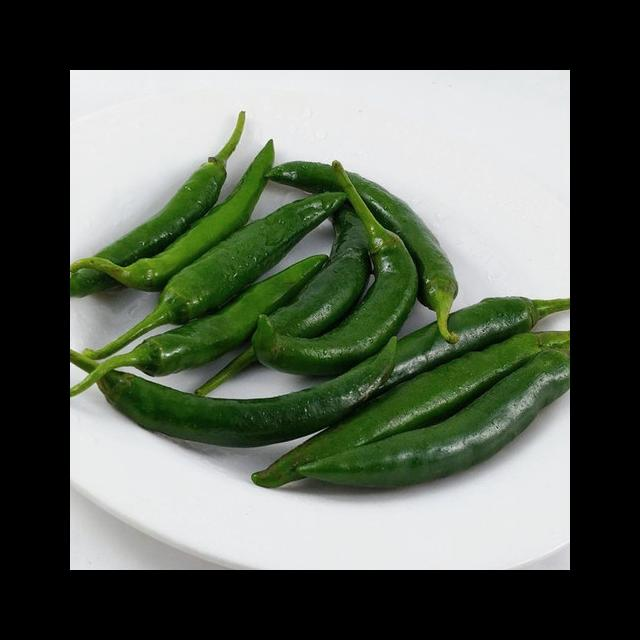chili_pepper: (86, 192, 346, 360), (297, 350, 570, 488), (276, 333, 542, 468), (252, 161, 419, 376), (98, 338, 397, 448), (70, 140, 274, 292), (95, 112, 244, 266), (269, 205, 371, 338), (70, 269, 116, 296)
